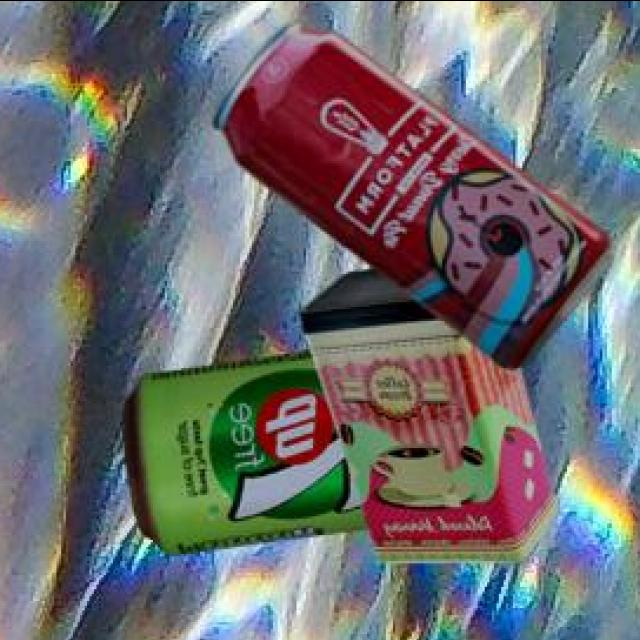logam: (218, 22, 615, 371), (302, 272, 561, 566), (126, 354, 373, 559)
